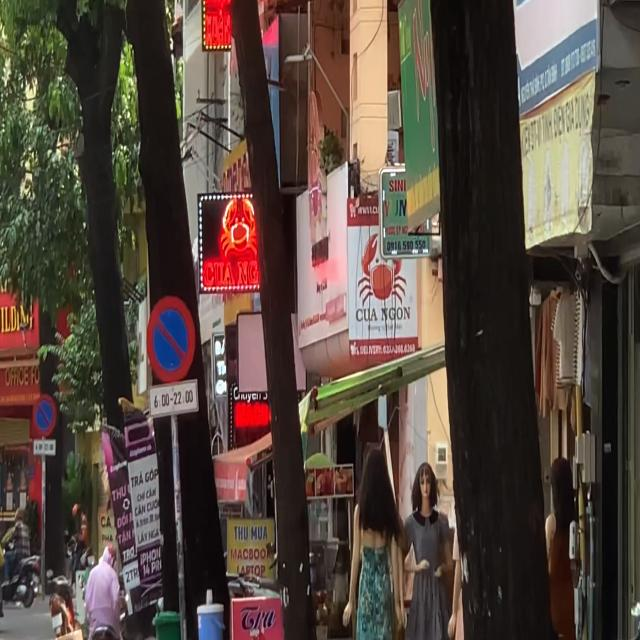Cam do: (147, 298, 195, 379), (33, 393, 57, 436)
